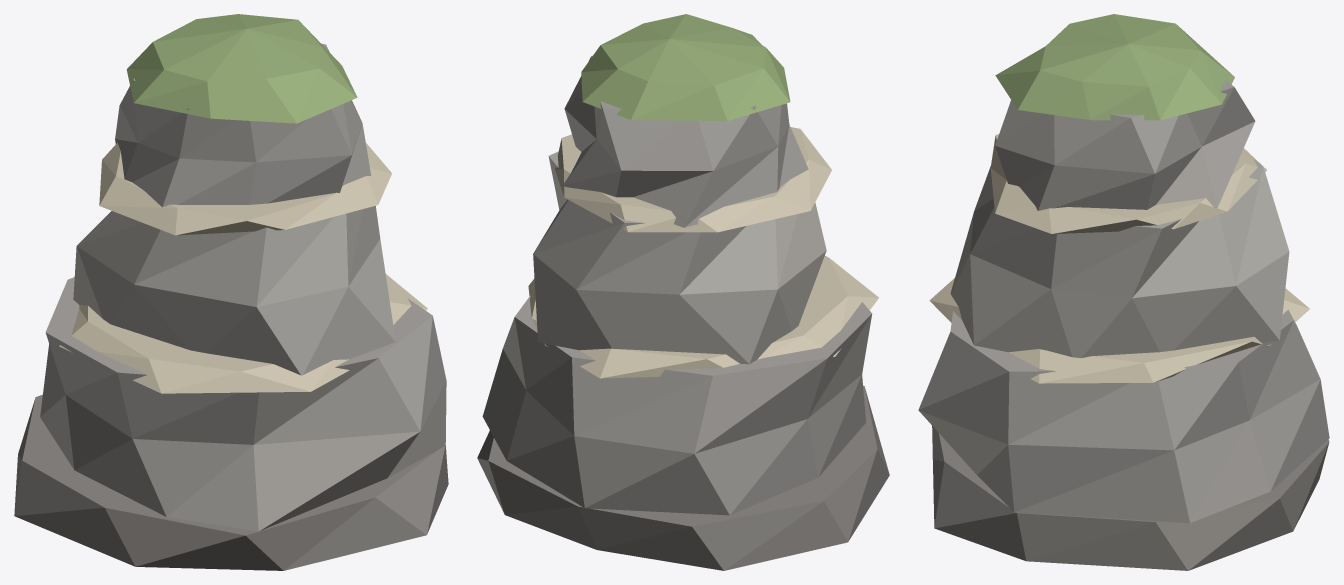
File: sea-stack-2.glb
3 views of the same model, side by side, from view 1: azimuth 30°, elevation 25°; view 2: azimuth 150°, elevation 25°; view 3: azimuth 270°, elevation 25° (orthographic). The views are drawn at different scales.
Visible parts, largest first — view 1: LOD0; view 2: LOD0; view 3: LOD0.
Boxes of the visible parts, left/top/right/bottom form: LOD0: left=14, top=14, right=448, bottom=570; LOD0: left=477, top=14, right=889, bottom=570; LOD0: left=918, top=14, right=1329, bottom=570.
Size of what is drawn, in the model's own units: 0.8726 by 1 by 0.8362.
